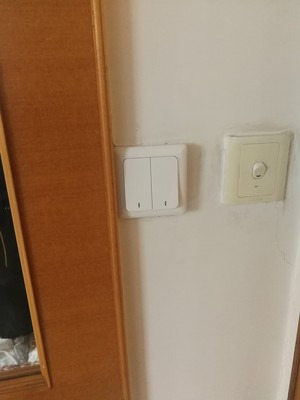switch: (125, 159, 150, 214), (152, 160, 176, 217), (248, 162, 268, 182)
